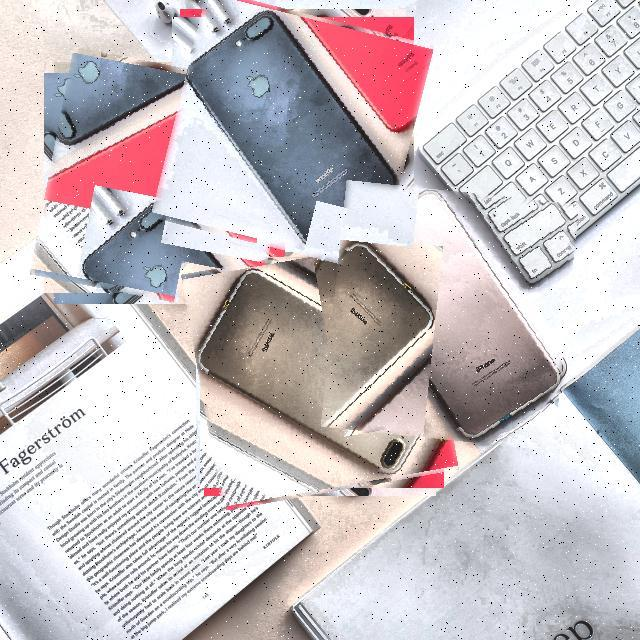Phone: (190, 243, 450, 502), (164, 1, 422, 260), (327, 186, 573, 446), (39, 58, 290, 308)
